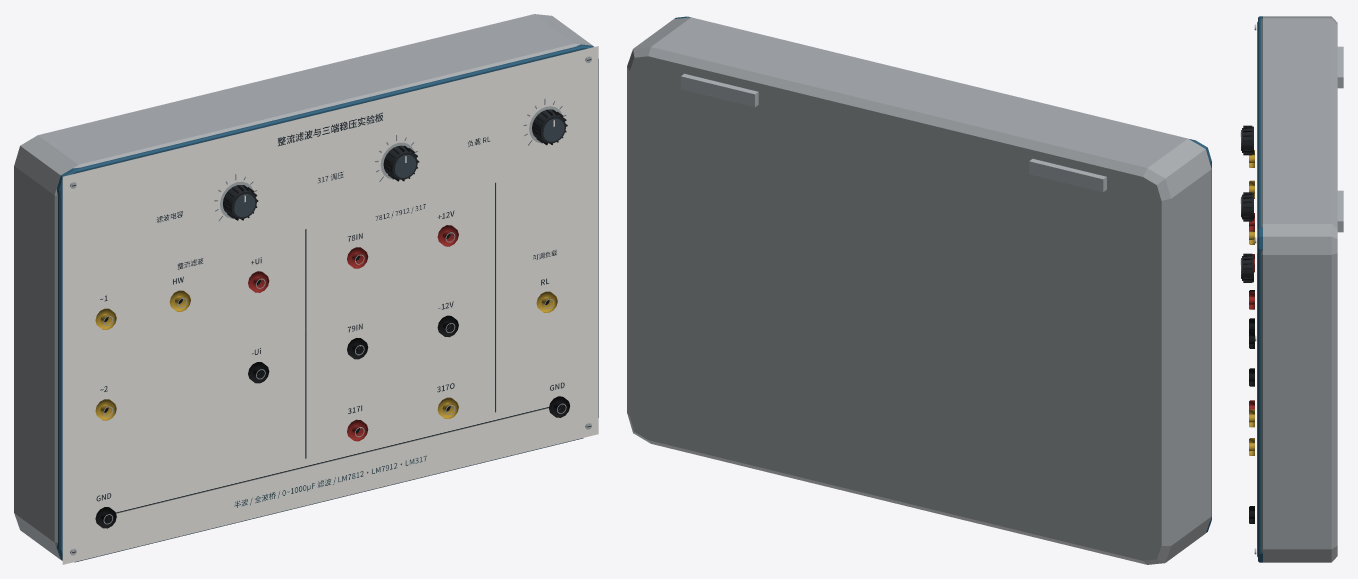
Rendered from module.glb.
3 renders of one model, left to right at view 1: azimuth 30°, elevation 25°; view 2: azimuth 150°, elevation 25°; view 3: azimuth 270°, elevation 25°, orthographic. The views are drawn at different scales.
Parts seen in each view (by area): view 1: PANEL_silkscreen, STATIC_paint, STATIC_metal, MOVING_R317_ADJ_paint, MOVING_SW_RLOAD_paint, MOVING_SW_CFILT_paint; view 2: STATIC_paint, STATIC_metal; view 3: STATIC_paint, STATIC_metal, MOVING_SW_CFILT_paint, MOVING_R317_ADJ_paint, MOVING_SW_RLOAD_paint.
Boxes of the visible parts, x1=… form: PANEL_silkscreen: x1=62, y1=46, x2=598, y2=564; STATIC_paint: x1=14, y1=14, x2=598, y2=562; STATIC_metal: x1=70, y1=56, x2=591, y2=555; MOVING_R317_ADJ_paint: x1=383, y1=145, x2=419, y2=181; MOVING_SW_RLOAD_paint: x1=532, y1=109, x2=567, y2=145; MOVING_SW_CFILT_paint: x1=223, y1=185, x2=258, y2=220; STATIC_paint: x1=627, y1=16, x2=1211, y2=564; STATIC_metal: x1=681, y1=73, x2=1106, y2=192; STATIC_paint: x1=1249, y1=16, x2=1337, y2=562; STATIC_metal: x1=1254, y1=24, x2=1343, y2=554; MOVING_SW_CFILT_paint: x1=1240, y1=125, x2=1253, y2=155; MOVING_R317_ADJ_paint: x1=1240, y1=192, x2=1253, y2=221; MOVING_SW_RLOAD_paint: x1=1240, y1=253, x2=1253, y2=282.
Bounding box in the file's own units: 0.264 × 0.184 × 0.0512.
Materials: 6 (1 with a texture image).
